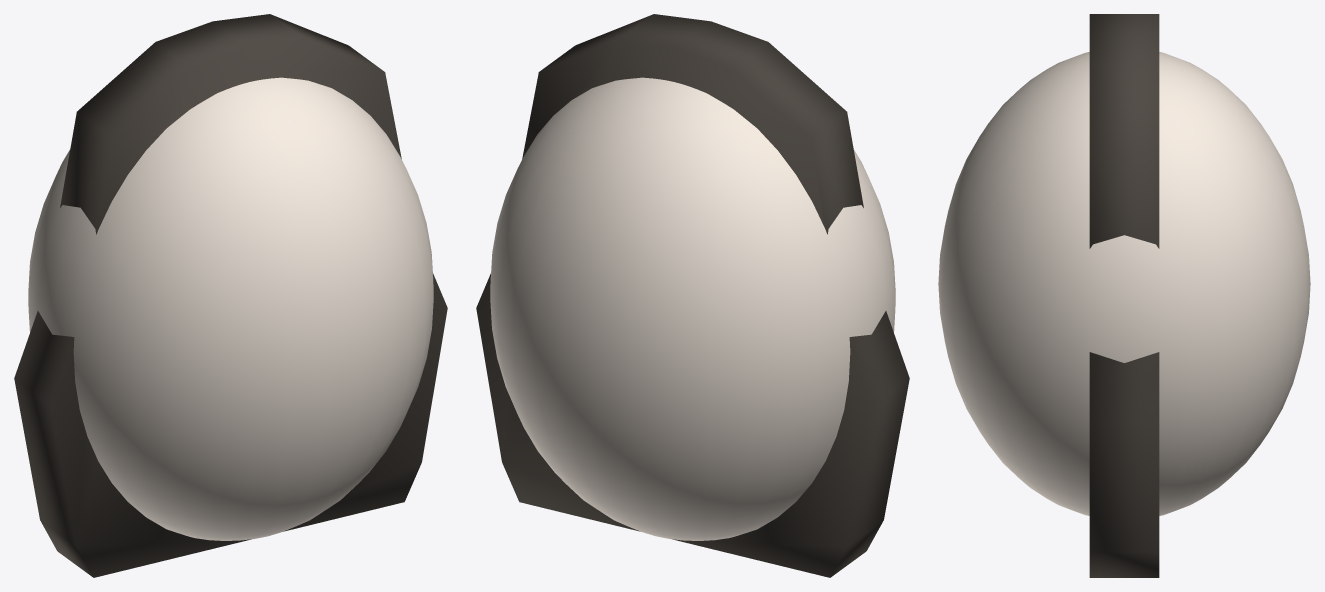
Rendered from hair_medium_texture.glb.
3 renders of one model, left to right at view 1: azimuth 30°, elevation 25°; view 2: azimuth 150°, elevation 25°; view 3: azimuth 270°, elevation 25°, orthographic. The views are drawn at different scales.
Visible parts, largest first — view 1: Head, Hair_medium_texture; view 2: Head, Hair_medium_texture; view 3: Head, Hair_medium_texture.
Boxes of the visible parts, x1,y1,x2,y2 form: Head: (28, 77, 433, 540); Hair_medium_texture: (14, 14, 447, 577); Head: (490, 77, 895, 540); Hair_medium_texture: (476, 14, 909, 577); Head: (938, 52, 1310, 515); Hair_medium_texture: (1089, 14, 1159, 577).
Bounding box in the file's own units: 1.89 × 2.23 × 1.6.
